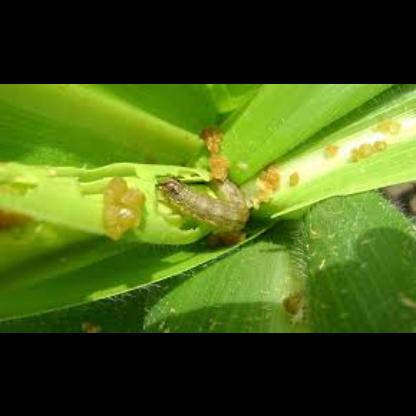oruga: (144, 168, 254, 233)
